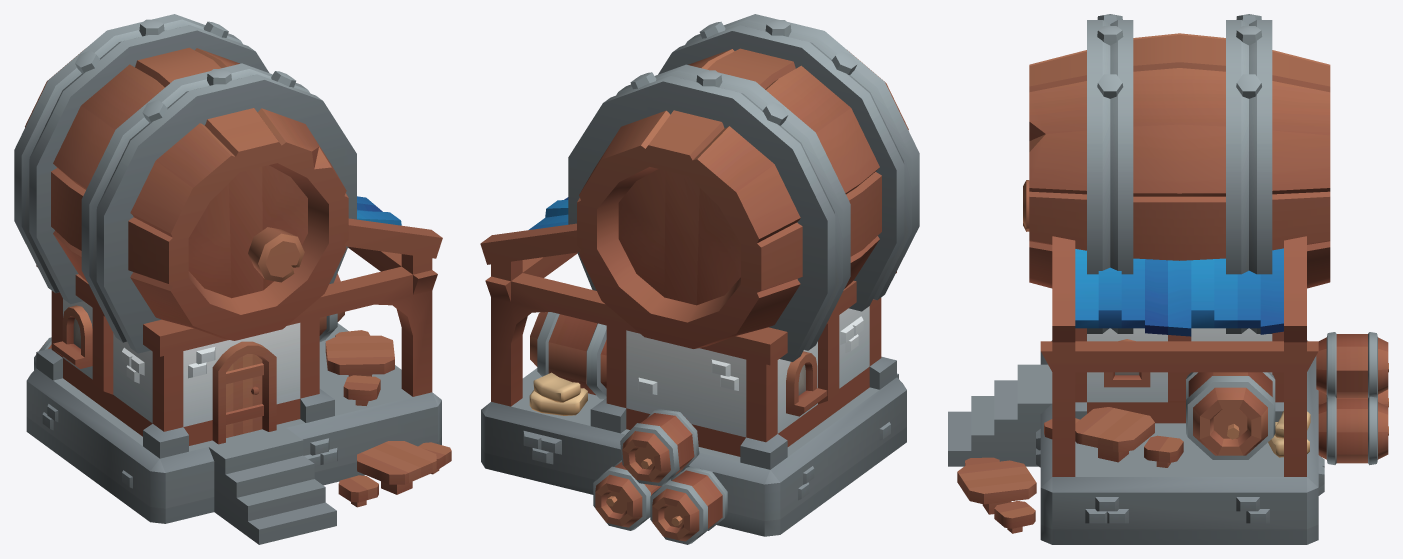
Rendered from tavern.glb.
The picture shows the model from 3 angles, left to right: view 1: azimuth 30°, elevation 25°; view 2: azimuth 150°, elevation 25°; view 3: azimuth 270°, elevation 25°; orthographic projection. The views are drawn at different scales.
Visible parts, largest first — view 1: building_tavern_blue; view 2: building_tavern_blue; view 3: building_tavern_blue.
Boxes of the visible parts, x1,y1,x2,y2 form: building_tavern_blue: (14,14,451,544); building_tavern_blue: (480,14,919,544); building_tavern_blue: (948,14,1388,544).
Bounding box in the file's own units: 1.17 × 1.4 × 1.33.
Materials: 1 (1 with a texture image).
